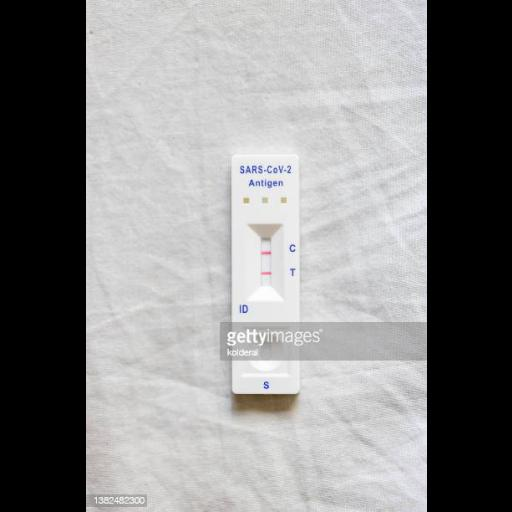Pos: (228, 156, 300, 396)
